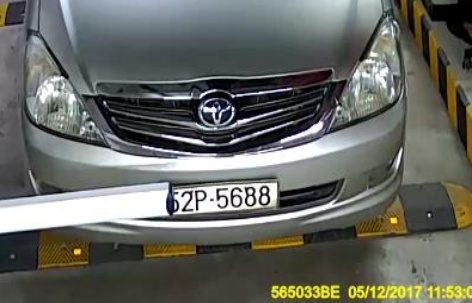plate: (166, 176, 289, 218)
